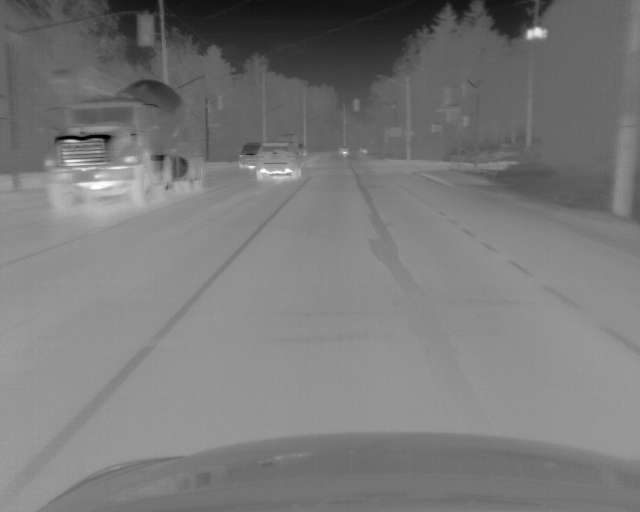car: (44, 82, 203, 207), (258, 141, 302, 182), (238, 142, 258, 168), (338, 147, 351, 157), (360, 147, 368, 156)
